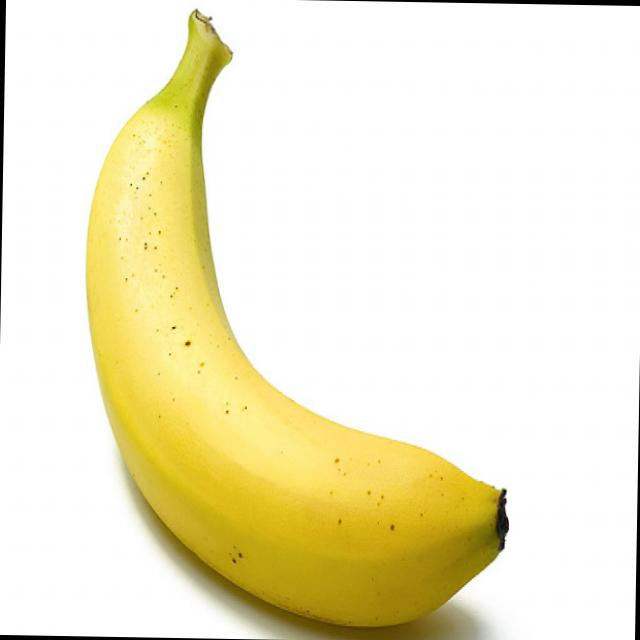banana: (69, 90, 515, 640)
